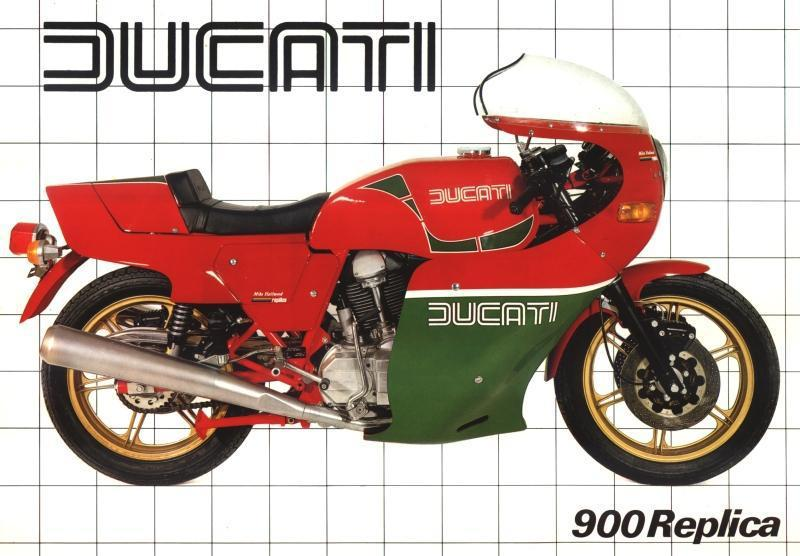motorcycle: (23, 50, 797, 485)
